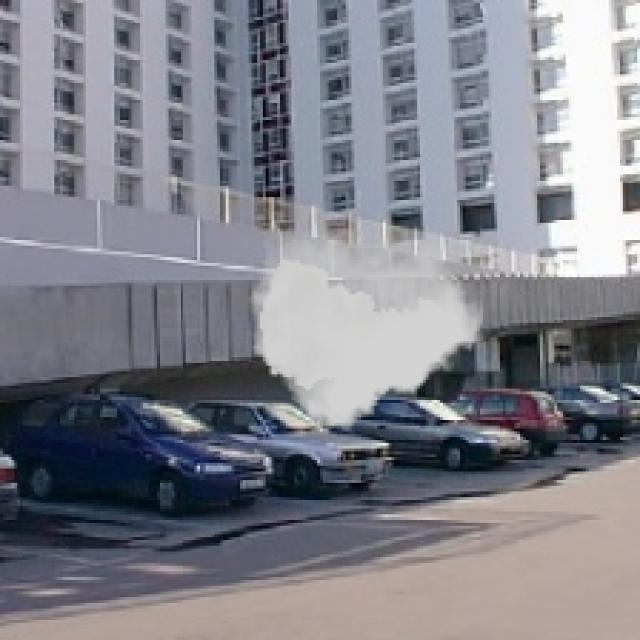Smoke: (248, 228, 483, 428)
